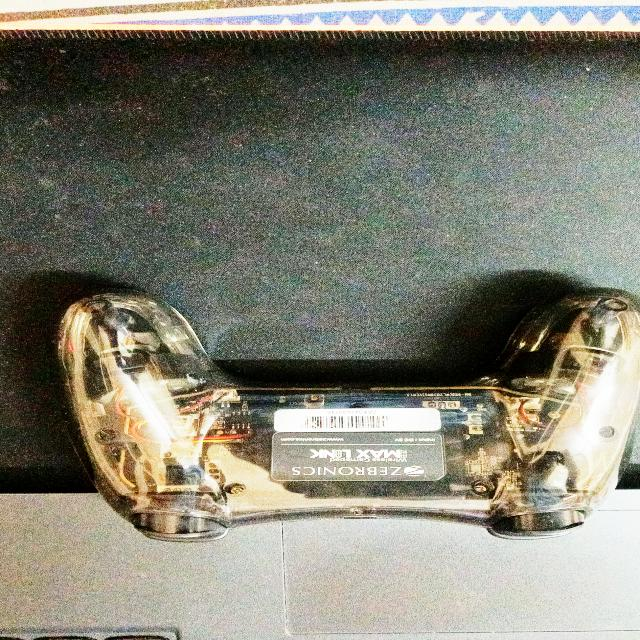gamepad: (55, 288, 640, 544)
